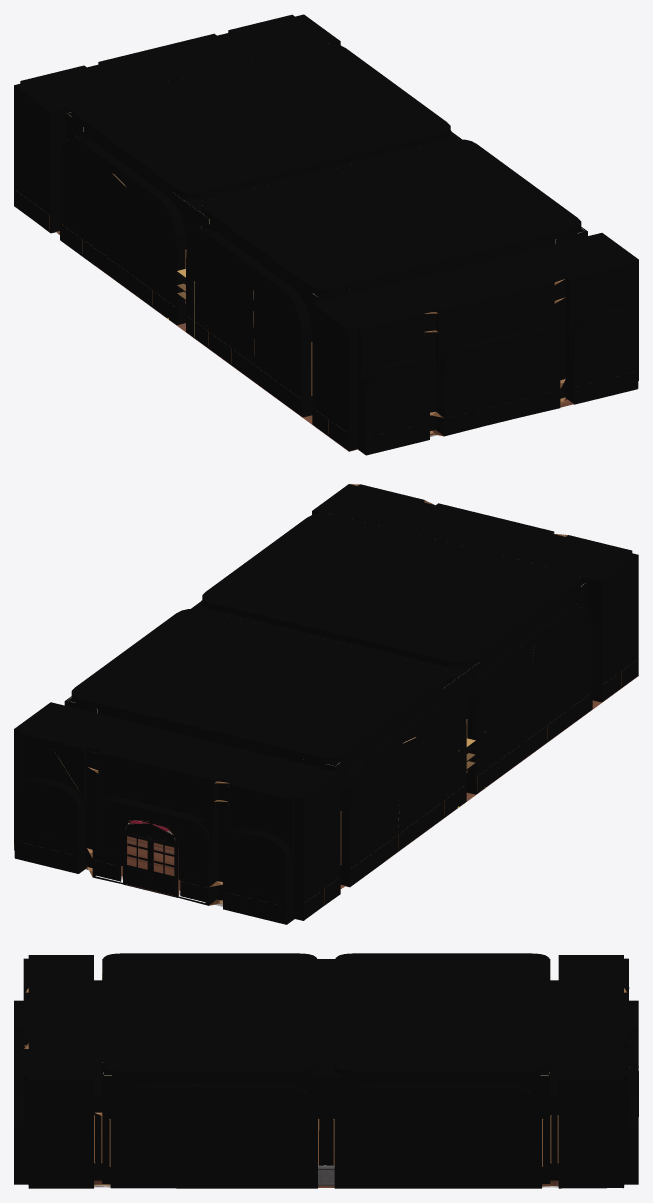
Rendered from cove-interior-cleaned-v1.glb.
The picture shows the model from 3 angles, top to bottom: view 1: azimuth 30°, elevation 25°; view 2: azimuth 150°, elevation 25°; view 3: azimuth 270°, elevation 25°; orthographic projection. The views are drawn at different scales.
Visible parts, largest first — view 1: Material2.001, Material3.006; view 2: Material2.001, Material3.006, Material3.007, Material3.004; view 3: Material2.001, Material3.004, Material3.001.
Part boxes in pixels (x1,y1,x2,y2): Material2.001: (14, 14, 638, 455); Material3.006: (56, 112, 584, 451); Material2.001: (14, 484, 638, 924); Material3.006: (67, 584, 638, 890); Material3.007: (85, 822, 284, 923); Material3.004: (14, 484, 625, 905); Material2.001: (14, 953, 638, 1188); Material3.004: (23, 988, 629, 1166); Material3.001: (318, 1165, 334, 1185).
Size of the model in its own units: 485 by 203 by 1017.
12 materials, 11 textured.
